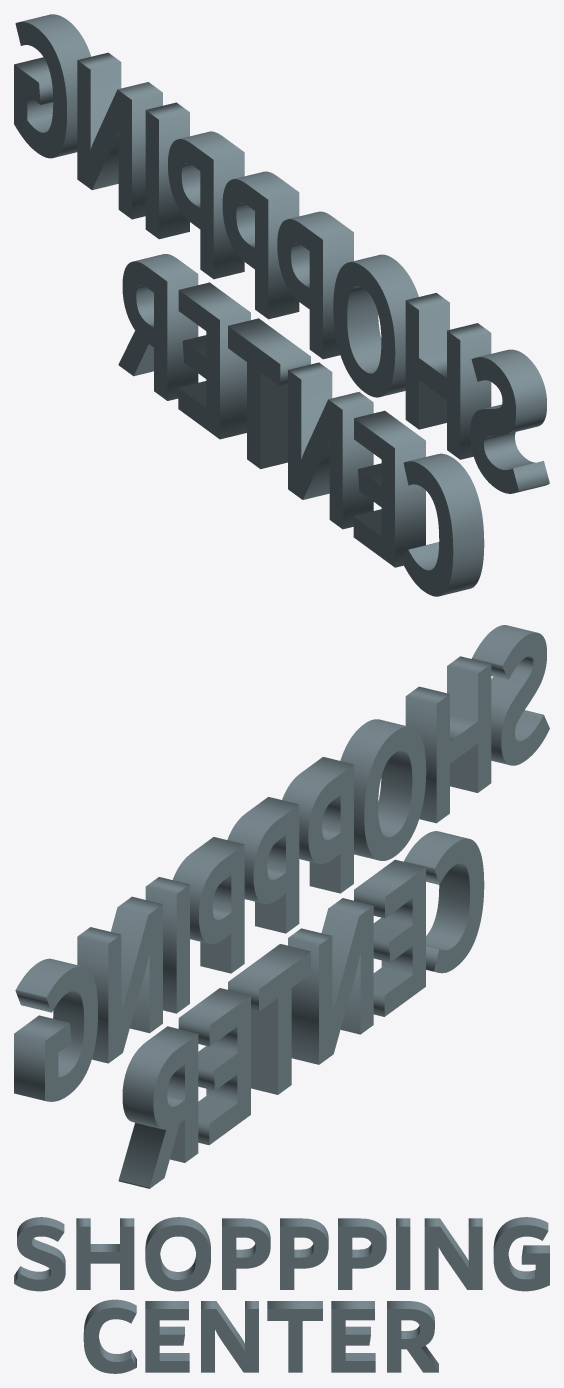
The model's file is text_lev3.glb.
3 renders of one model, top to bottom at view 1: azimuth 30°, elevation 25°; view 2: azimuth 150°, elevation 25°; view 3: azimuth 270°, elevation 25°, orthographic. The views are drawn at different scales.
Parts seen in each view (by area): view 1: text_lev3; view 2: text_lev3; view 3: text_lev3.
Part boxes in pixels (left/top/right/bottom): text_lev3: left=14, top=14, right=549, bottom=596; text_lev3: left=14, top=625, right=549, bottom=1188; text_lev3: left=14, top=1217, right=549, bottom=1373.
Size of the model in its own units: 0.1243 by 1.07 by 3.51.
